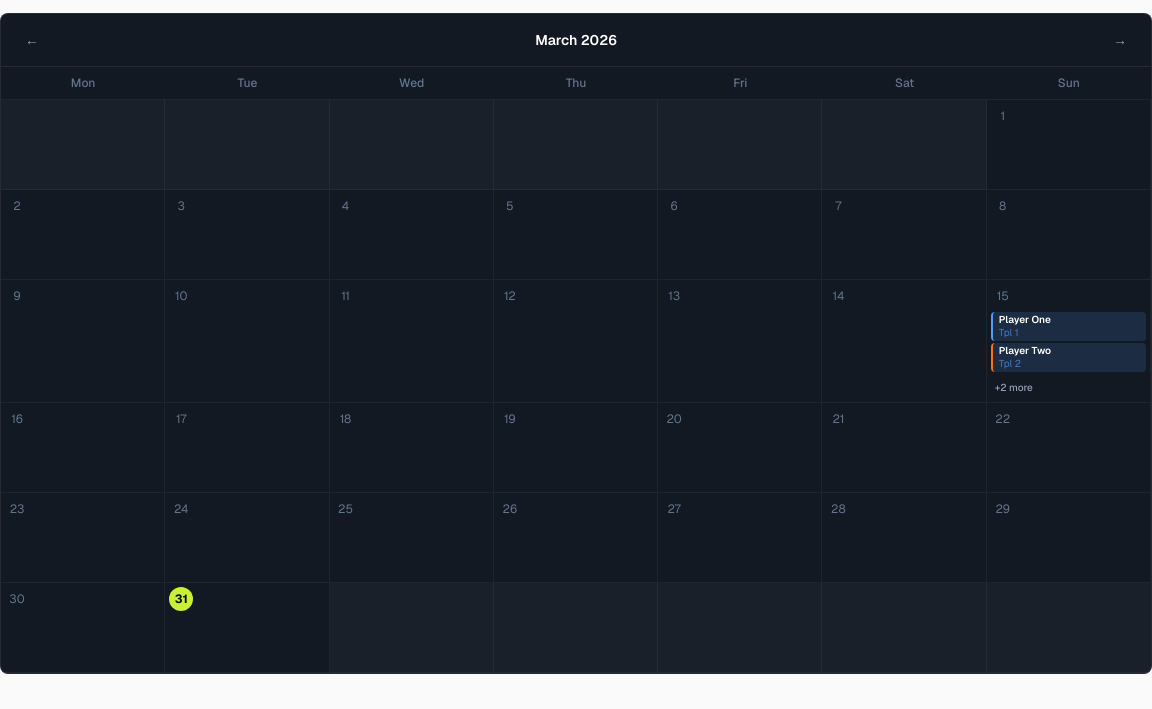
CalendarView — overflow (+N more) › opens popover with all sessions when "+N more" is clicked
Click the button "+2 more": (1068, 388) [991,378,1146,397]
(page scrolled)
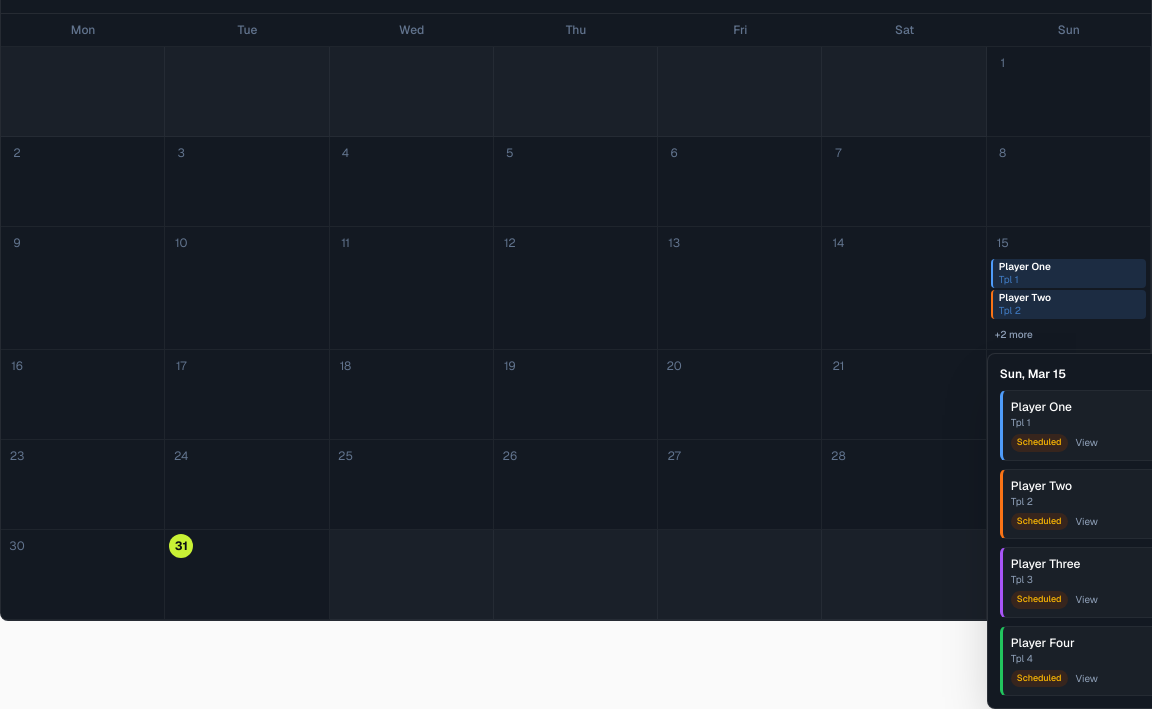
Check: the text "Player One" below "Sun, Mar 15" is shown, box [1011,399,1072,415]
Check: the text "Player Two" below "Sun, Mar 15" is shown, box [1011,478,1072,494]
Check: the text "Player Three" is shown, box [1011,556,1080,572]
